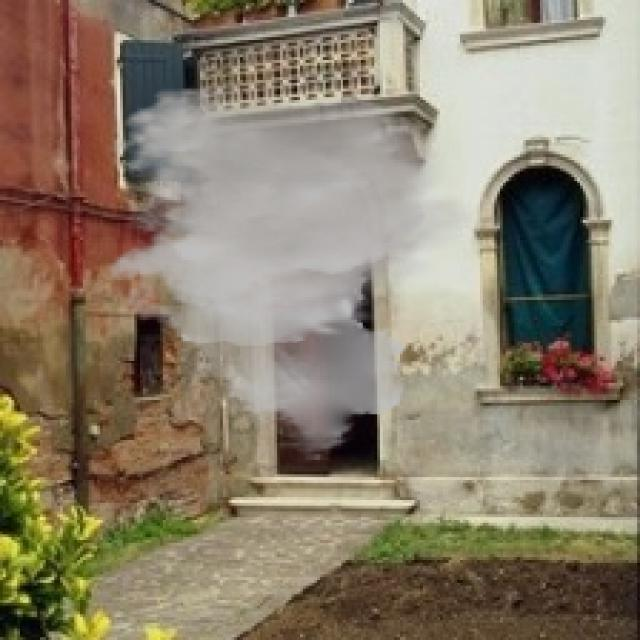smoke: (106, 86, 488, 463)
